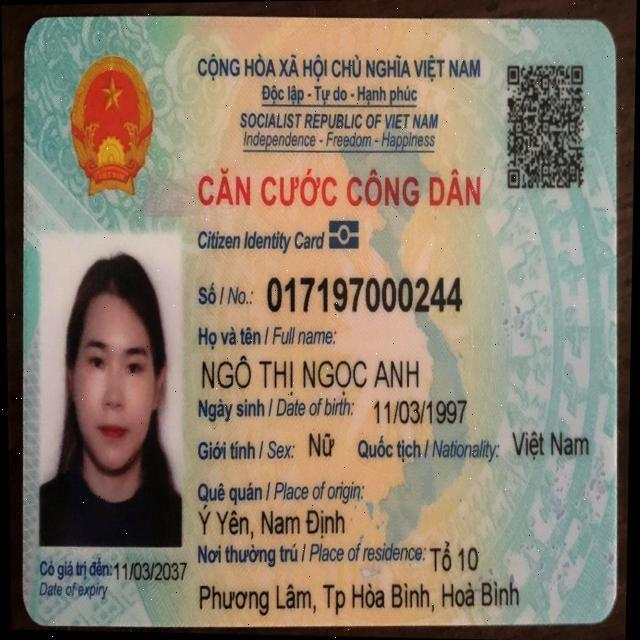current_place: (200, 577, 523, 615), (429, 540, 480, 576)
dob: (372, 396, 469, 430)
expire_date: (114, 556, 189, 585)
gender: (306, 427, 337, 460)
id: (267, 272, 464, 318)
name: (200, 353, 422, 395)
nationality: (511, 427, 591, 464)
origin_place: (198, 504, 348, 541)
qr: (503, 54, 588, 198)
